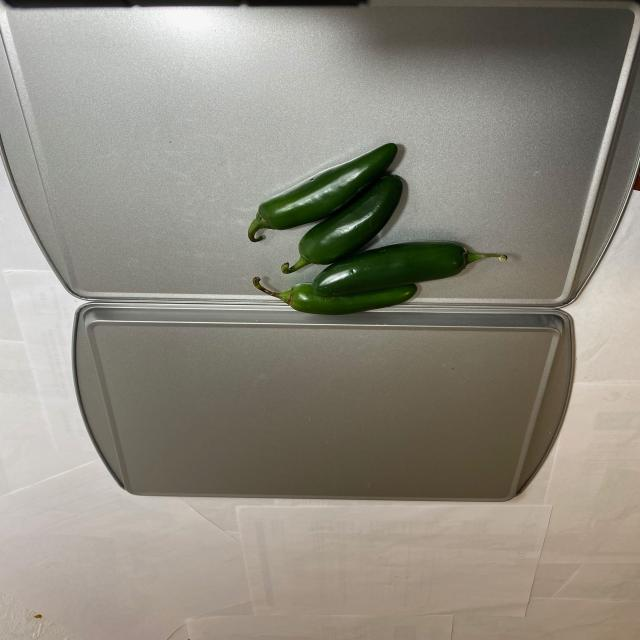chilli: (226, 140, 518, 318)
